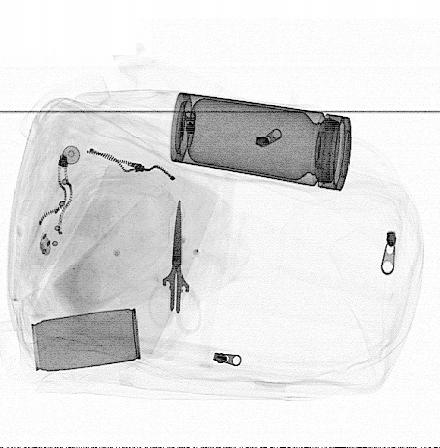Scissors: (147, 198, 203, 336)
